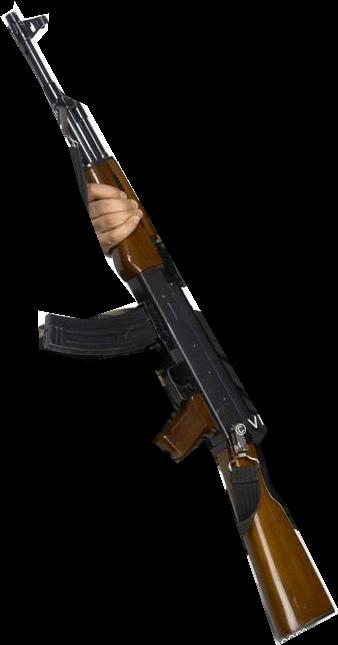gun: (0, 1, 338, 645)
